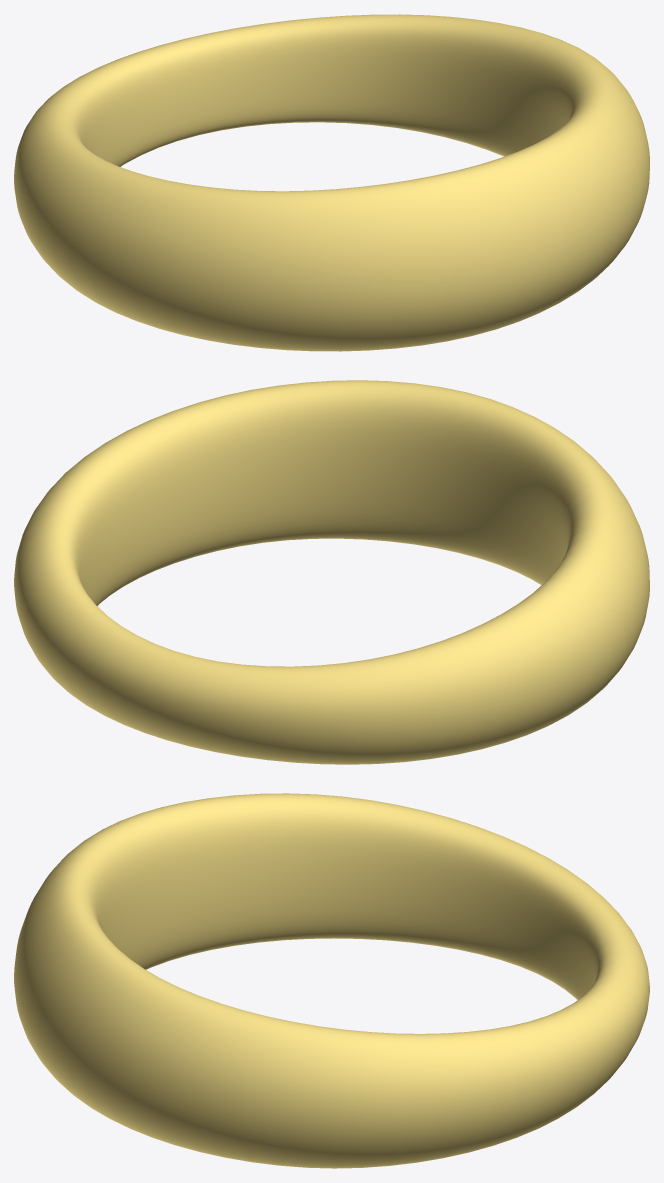
File: golden_ring.glb
The picture shows the model from 3 angles, top to bottom: view 1: azimuth 30°, elevation 25°; view 2: azimuth 150°, elevation 25°; view 3: azimuth 270°, elevation 25°; orthographic projection.
Parts seen in each view (by area): view 1: Cylinder; view 2: Cylinder; view 3: Cylinder.
Boxes of the visible parts, left/top/right/bottom form: Cylinder: left=14, top=14, right=649, bottom=351; Cylinder: left=14, top=380, right=649, bottom=764; Cylinder: left=14, top=793, right=649, bottom=1168.
Size of the model in its own units: 1.54 by 0.4338 by 1.51.
